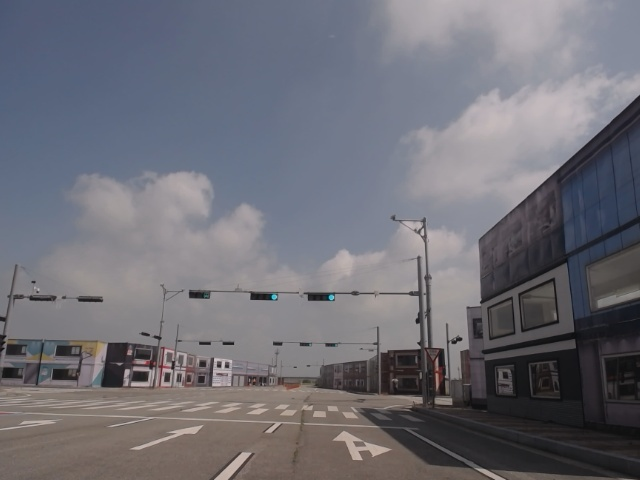straight_green_4: (250, 291, 279, 302), (309, 291, 335, 302)
